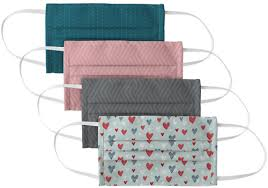cloth_mask: (54, 113, 268, 188)
